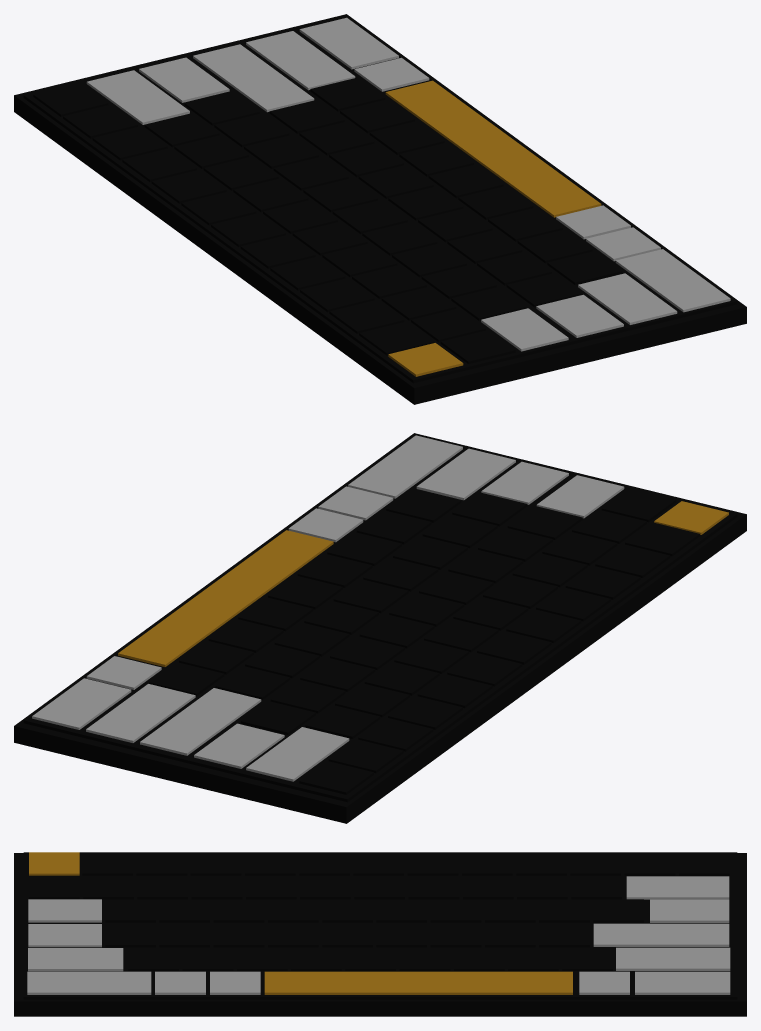
The model's file is teclado.fbx.
3 renders of one model, top to bottom at view 1: azimuth 30°, elevation 25°; view 2: azimuth 150°, elevation 25°; view 3: azimuth 270°, elevation 25°, orthographic. The views are drawn at different scales.
Parts seen in each view (by area): view 1: baseTeclado, Cube.018, Cube.011, Cube.019, Cube.007, Cube.020, Cube.003, Cube.014, Cube, Cube.013, Cube.016, Cube.006 (+8 smaller); view 2: baseTeclado, Cube.018, Cube.011, Cube.019, Cube.020, Cube.007, Cube.003, Cube.014, Cube, Cube.013, Cube.016, Cube.006 (+8 smaller); view 3: baseTeclado, Cube.018, Cube.011, Cube.019, Cube.007, Cube.020, Cube.003, Cube.014, Cube, Cube.013, Cube.016, Cube.005 (+8 smaller).
Boxes of the visible parts, box(x1,y1,x2,y2) form: baseTeclado: box(14, 14, 746, 404); Cube.018: box(33, 83, 433, 355); Cube.011: box(144, 113, 515, 363); Cube.019: box(184, 91, 526, 320); Cube.007: box(310, 77, 622, 284); Cube.020: box(269, 100, 581, 307); Cube.003: box(385, 80, 601, 217); Cube.014: box(193, 44, 314, 112); Cube: box(615, 249, 730, 312); Cube.013: box(246, 31, 355, 90); Cube.016: box(86, 70, 189, 124); Cube.006: box(578, 273, 677, 324); baseTeclado: box(14, 433, 746, 823); Cube.018: box(299, 522, 699, 794); Cube.011: box(305, 488, 676, 738); Cube.019: box(241, 506, 582, 735); Cube.020: box(215, 492, 527, 699); Cube.007: box(149, 488, 461, 696); Cube.003: box(118, 530, 333, 666); Cube.014: box(140, 688, 261, 755); Cube: box(348, 435, 462, 498); Cube.013: box(86, 684, 195, 742); Cube.016: box(246, 727, 349, 781); Cube.006: box(416, 448, 515, 500); baseTeclado: box(14, 852, 746, 1016); Cube.018: box(82, 852, 729, 875); Cube.011: box(29, 876, 621, 899); Cube.019: box(105, 899, 643, 922); Cube.007: box(128, 947, 612, 970); Cube.020: box(105, 924, 589, 947); Cube.003: box(264, 971, 572, 994); Cube.014: box(593, 923, 729, 946); Cube: box(27, 971, 151, 994); Cube.013: box(616, 947, 730, 970); Cube.016: box(626, 876, 729, 899); Cube.005: box(635, 971, 730, 994).
Size of the model in its own units: 136 by 8.55 by 282.
